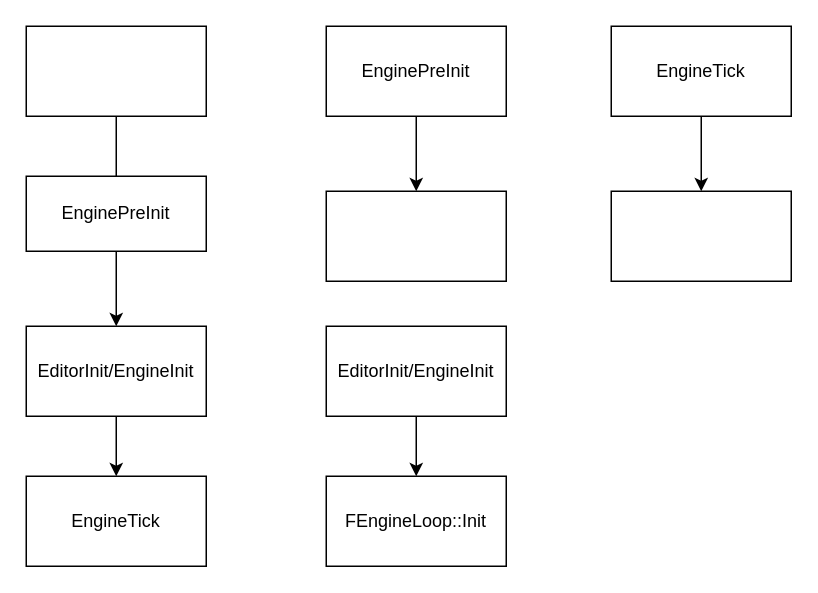
Some shapes in this 818 by 593 pixel diagram are drawn without their labels. Here are the shapes that lost their labels. From the top down, the centre of each, then its label:
At (x=115, y=70): "GuardedMain".
At (x=415, y=235): "FEngineLoop::PreInit".
At (x=700, y=235): "FEngineLoop::Tick".
